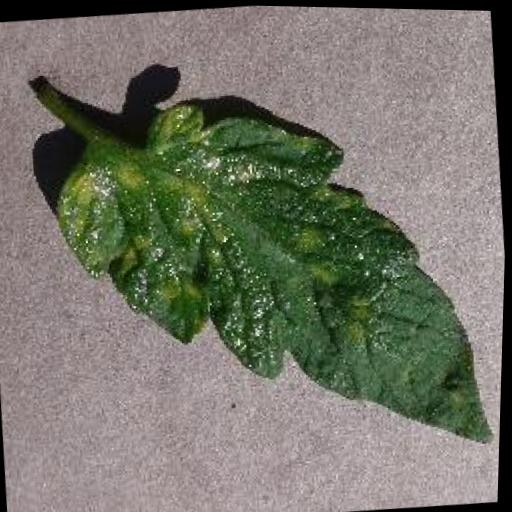Leaf Mold: (38, 77, 504, 477)
